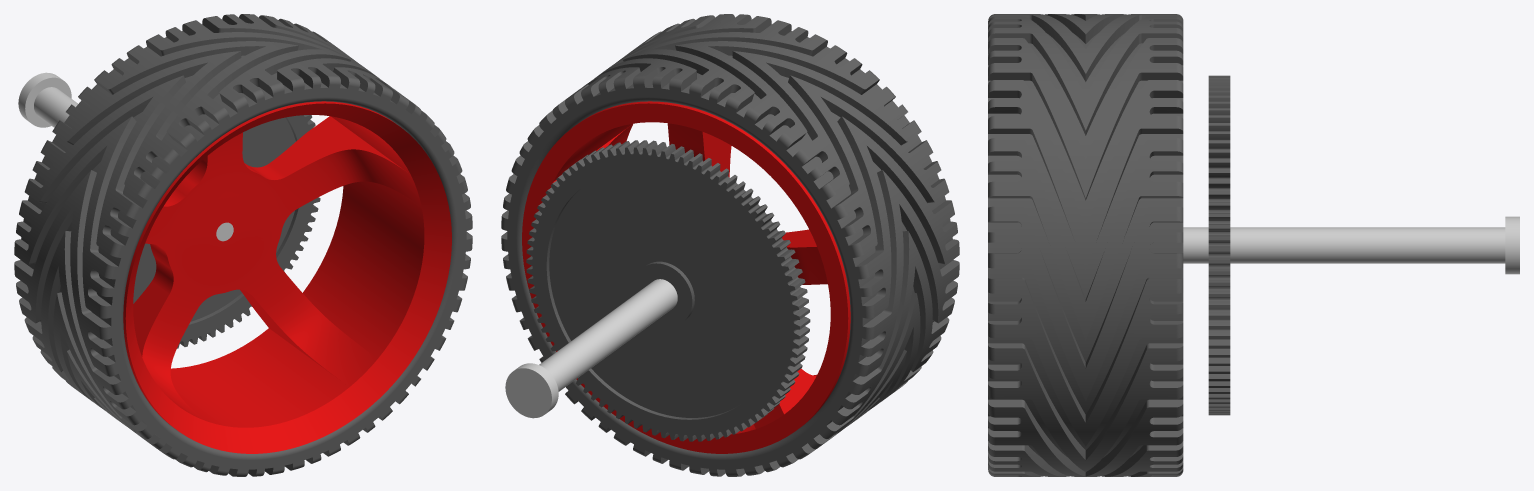
The model's file is assembly_wheel_R_back.dae.
3 renders of one model, left to right at view 1: azimuth 30°, elevation 25°; view 2: azimuth 150°, elevation 25°; view 3: azimuth 270°, elevation 25°, orthographic. The views are drawn at different scales.
Parts seen in each view (by area): view 1: assembly_wheel_R_back; view 2: assembly_wheel_R_back; view 3: assembly_wheel_R_back.
Part boxes in pixels (x1,y1,x2,y2): assembly_wheel_R_back: (14, 14, 472, 476); assembly_wheel_R_back: (501, 14, 959, 476); assembly_wheel_R_back: (988, 14, 1519, 476).
Bounding box in the file's own units: 0.064 × 0.0735 × 0.064.
